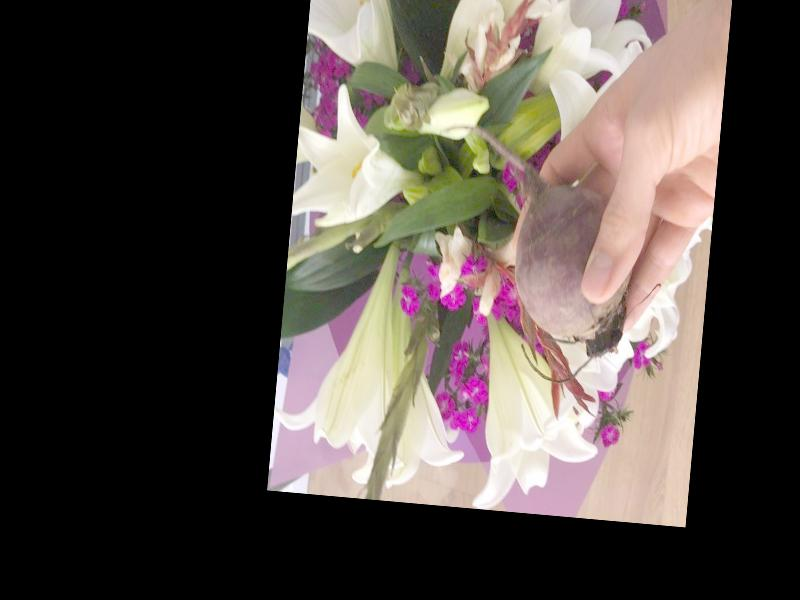Beet: (422, 122, 642, 388)
